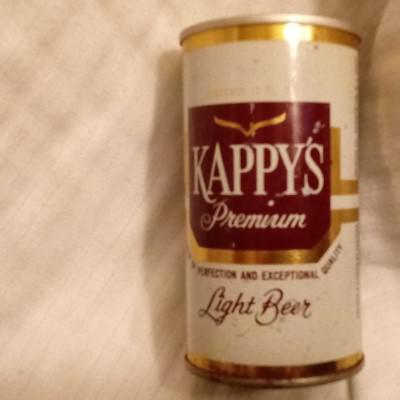beer: (178, 16, 366, 385)
